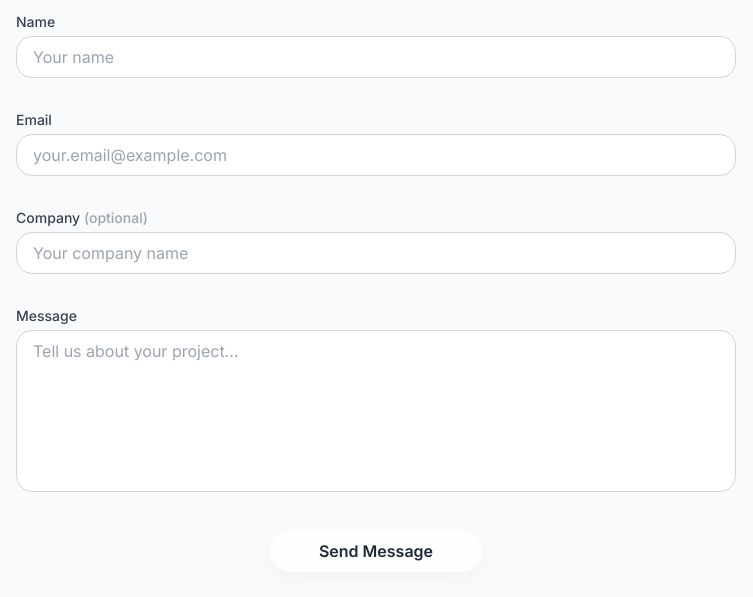
Scenario: User Journey Tests › 2. Contact Form Validation › should display validation errors for empty required fields
Step 1. Click the button "Send Message" → (376, 551), box [270, 530, 482, 572]
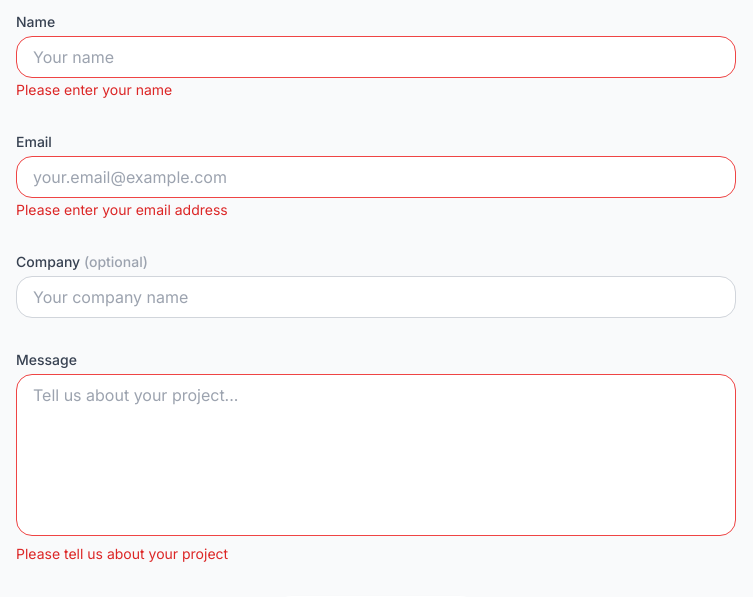
Check: the text "Please enter your name" is shown, box [16, 81, 172, 98]
Check: the text "Please enter your email address" is shown, box [16, 201, 228, 218]
Check: the text "Please tell us about your project" is shown, box [16, 545, 228, 562]
